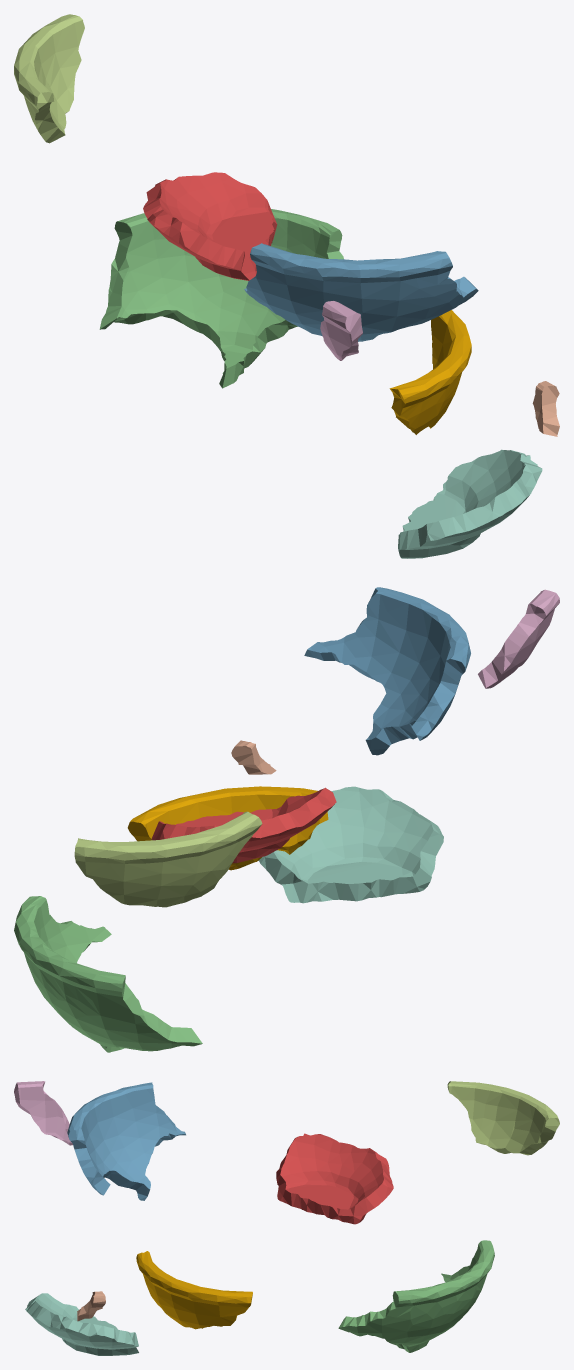
File: mode_9_8pcs_transformed.glb
3 views of the same model, one above another, from view 1: azimuth 30°, elevation 25°; view 2: azimuth 150°, elevation 25°; view 3: azimuth 270°, elevation 25° (orthographic). The views are drawn at different scales.
Visible parts, largest first — view 1: piece_3.obj, piece_2.obj, piece_1.obj, piece_4.obj, piece_5.obj, piece_0.obj, piece_6.obj, piece_7.obj; view 2: piece_2.obj, piece_4.obj, piece_3.obj, piece_5.obj, piece_0.obj, piece_1.obj, piece_6.obj, piece_7.obj; view 3: piece_2.obj, piece_1.obj, piece_3.obj, piece_5.obj, piece_0.obj, piece_4.obj, piece_6.obj, piece_7.obj.
Part boxes in pixels (x1,y1,x2,y2): piece_3.obj: (99, 209, 343, 388); piece_2.obj: (244, 243, 478, 341); piece_1.obj: (143, 172, 277, 280); piece_4.obj: (398, 449, 542, 558); piece_5.obj: (14, 14, 84, 143); piece_0.obj: (389, 310, 471, 434); piece_6.obj: (320, 301, 362, 360); piece_7.obj: (532, 381, 559, 436); piece_2.obj: (304, 587, 470, 755); piece_4.obj: (258, 786, 443, 903); piece_3.obj: (14, 896, 202, 1052); piece_5.obj: (74, 811, 262, 907); piece_0.obj: (127, 786, 328, 870); piece_1.obj: (151, 787, 336, 863); piece_6.obj: (478, 589, 559, 688); piece_7.obj: (231, 740, 276, 774); piece_2.obj: (67, 1082, 185, 1200); piece_1.obj: (276, 1133, 393, 1224); piece_3.obj: (338, 1240, 494, 1352); piece_5.obj: (447, 1081, 559, 1155); piece_0.obj: (136, 1251, 252, 1329); piece_4.obj: (25, 1293, 138, 1355); piece_6.obj: (14, 1081, 72, 1145); piece_7.obj: (77, 1291, 105, 1321).
Size of the model in its own units: 1 by 1.02 by 2.42.
